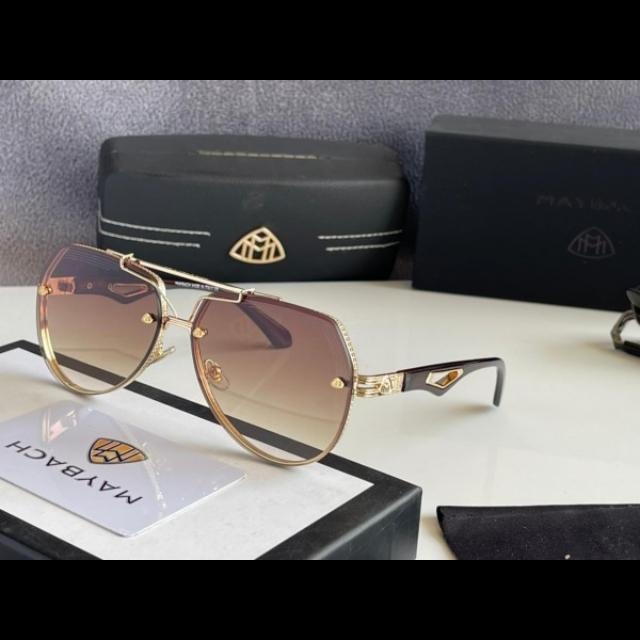sunglasses: (33, 242, 507, 468)
